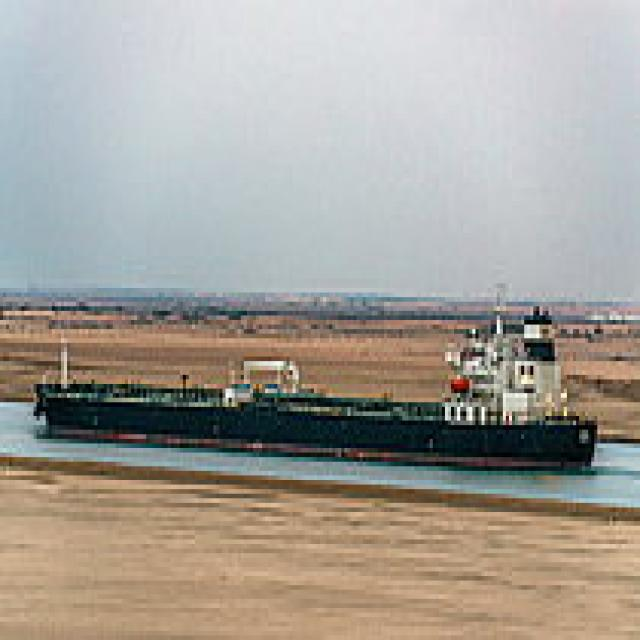Tanker: (24, 292, 600, 476)
